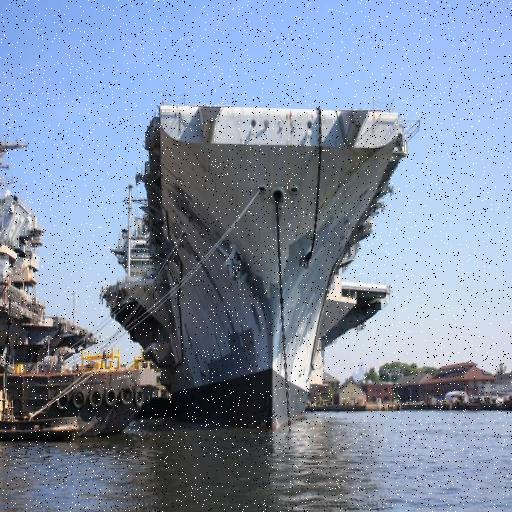Portanaves: (111, 21, 413, 439)
